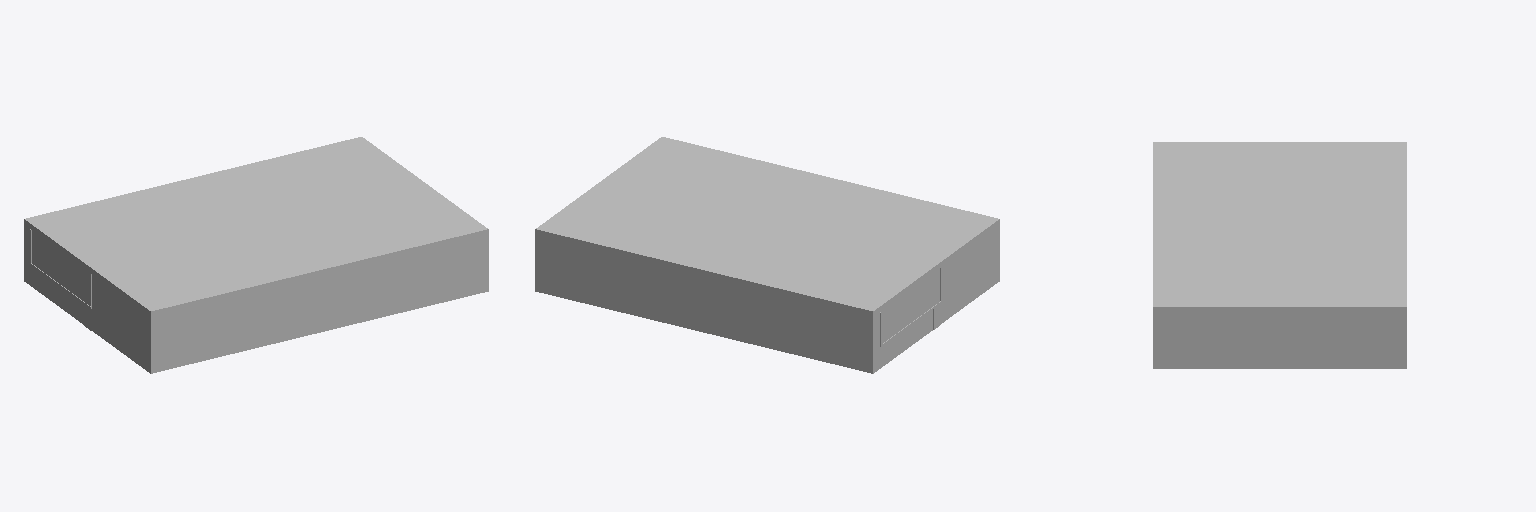
Rendered from TrainingMap.obj.
3 views of the same model, side by side, from view 1: azimuth 30°, elevation 25°; view 2: azimuth 150°, elevation 25°; view 3: azimuth 270°, elevation 25° (orthographic).
Visible parts, largest first — view 1: MapBoundries_Cube.003; view 2: MapBoundries_Cube.003; view 3: MapBoundries_Cube.003.
Boxes of the visible parts, x1,y1,x2,y2 form: MapBoundries_Cube.003: [24, 137, 488, 373]; MapBoundries_Cube.003: [535, 137, 999, 373]; MapBoundries_Cube.003: [1153, 142, 1406, 368].
Size of the model in its own units: 50 by 9 by 32.4.